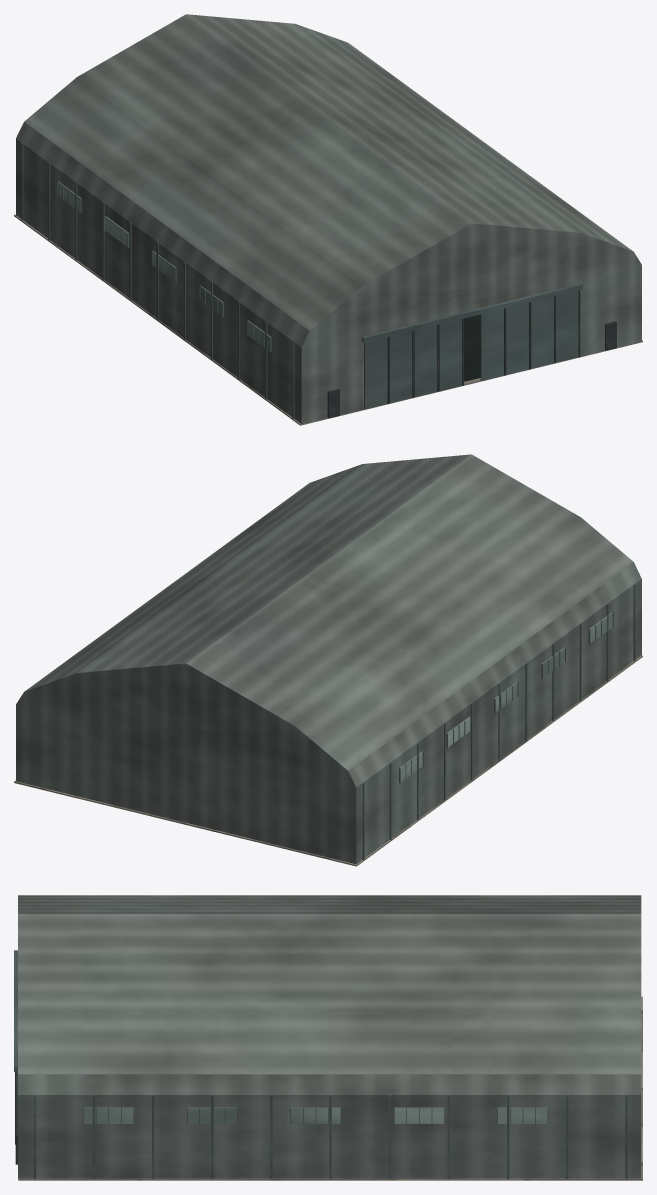
File: hangar.glb
The picture shows the model from 3 angles, top to bottom: view 1: azimuth 30°, elevation 25°; view 2: azimuth 150°, elevation 25°; view 3: azimuth 270°, elevation 25°; orthographic projection. The views are drawn at different scales.
Parts seen in each view (by area): view 1: Stahlhangar; view 2: Stahlhangar; view 3: Stahlhangar.
Part boxes in pixels (left/top/right/bottom): Stahlhangar: left=14, top=14, right=642, bottom=425; Stahlhangar: left=14, top=454, right=642, bottom=866; Stahlhangar: left=14, top=895, right=642, bottom=1180.
Bounding box in the file's own units: 29.23 × 13.08 × 42.53.
Materials: 1 (1 with a texture image).
